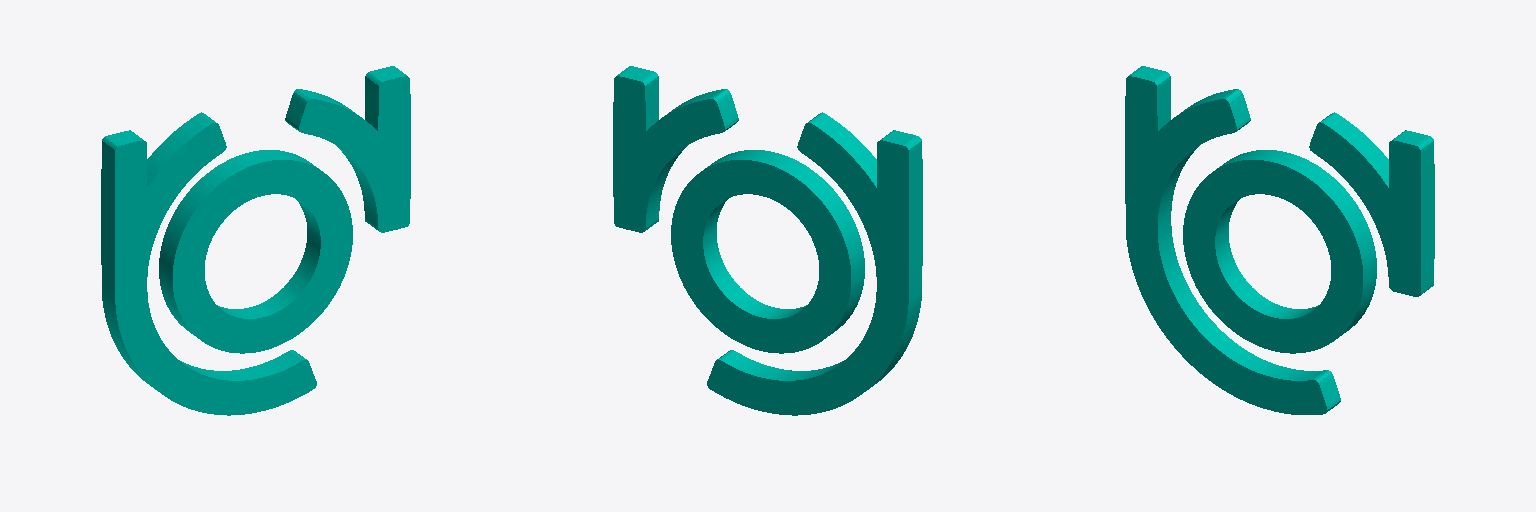
3 views of the same model, side by side, from view 1: azimuth 30°, elevation 25°; view 2: azimuth 150°, elevation 25°; view 3: azimuth 330°, elevation 25° (orthographic).
Parts seen in each view (by area): view 1: path170; view 2: path170; view 3: path170.
Boxes of the visible parts, x1=… form: path170: x1=101, y1=66, x2=410, y2=415; path170: x1=613, y1=66, x2=922, y2=415; path170: x1=1125, y1=66, x2=1434, y2=414.
Size of the model in its own units: 1 by 0.9759 by 0.08.
1 materials, 1 textured.